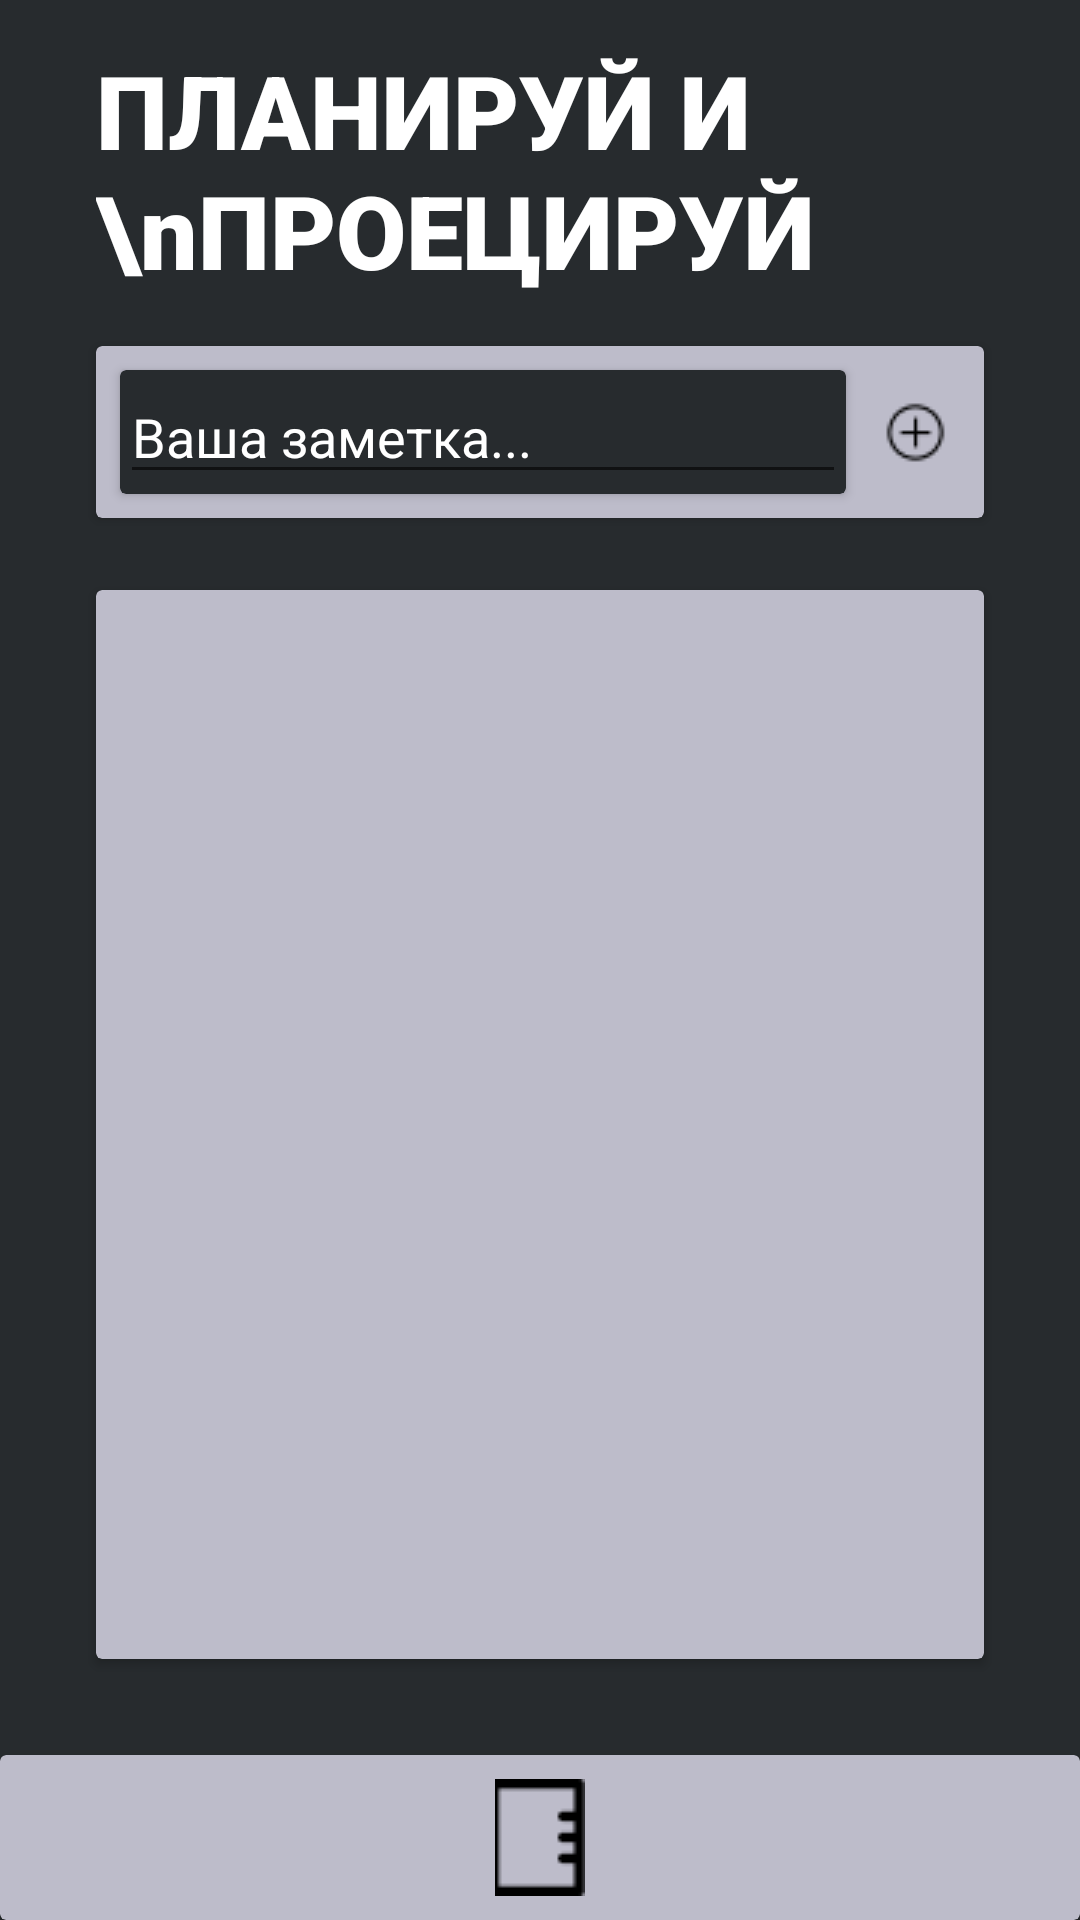

Icons on this 1080 x 1920 Android screen, each with the point to tap as (x=x, y=y):
add: (x=915, y=432)
notesimgg: (x=540, y=1837)
